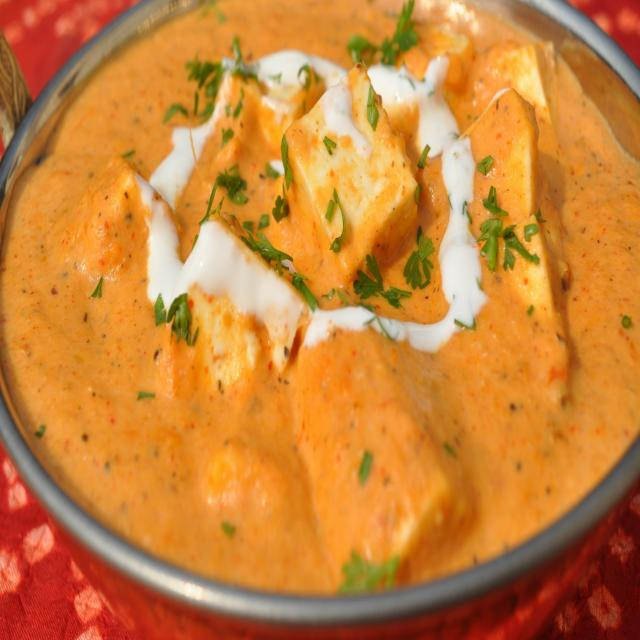ShahiPaneer: (2, 0, 640, 602)
